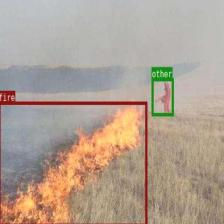fire: (0, 101, 147, 224)
